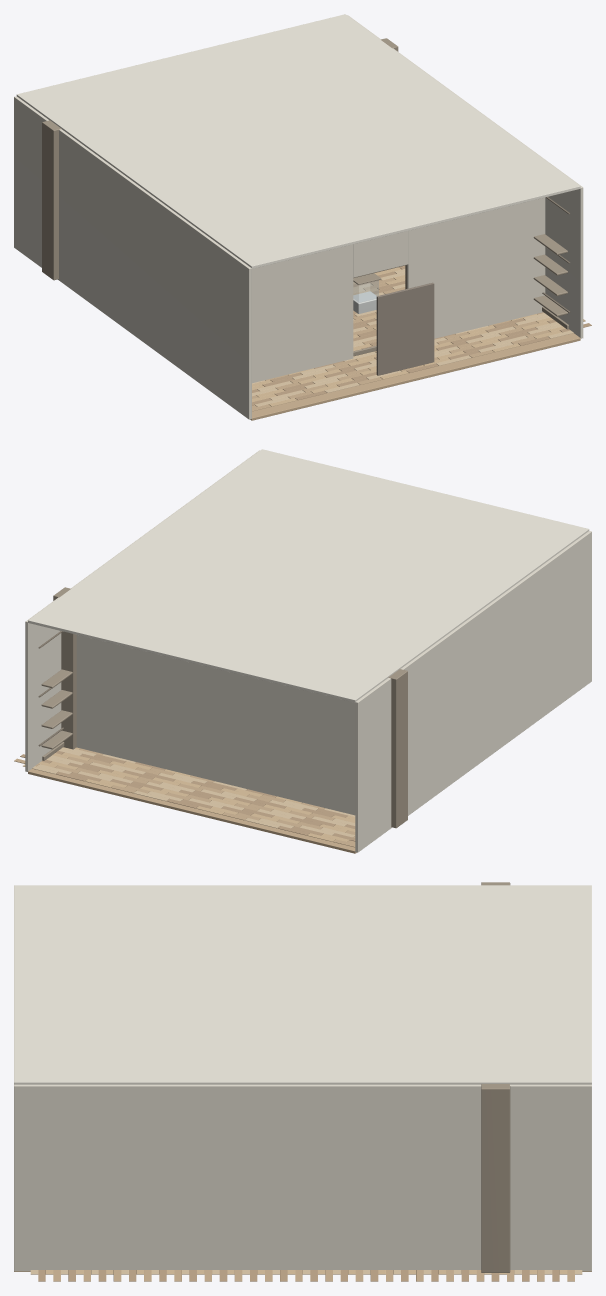
Rendered from whitebox-room.glb.
The picture shows the model from 3 angles, top to bottom: view 1: azimuth 30°, elevation 25°; view 2: azimuth 150°, elevation 25°; view 3: azimuth 270°, elevation 25°; orthographic projection. The views are drawn at different scales.
Parts seen in each view (by area): view 1: ceiling, left_wall, front_wall_right, front_wall_left, vestibule_wall, right_wall, floor_slab, back_corner_post_-10.36, front_wall_top; view 2: ceiling, left_wall, back_wall, right_wall, back_corner_post_-10.36, floor_slab, back_corner_post_10.36; view 3: ceiling, right_wall, back_corner_post_10.36.
Boxes of the visible parts, bbox=[...] form: ceiling: bbox=[16, 14, 580, 268]; left_wall: bbox=[14, 96, 251, 419]; front_wall_right: bbox=[407, 197, 545, 338]; front_wall_left: bbox=[252, 244, 353, 383]; vestibule_wall: bbox=[376, 282, 434, 375]; right_wall: bbox=[347, 15, 583, 338]; floor_slab: bbox=[250, 333, 580, 420]; back_corner_post_-10.36: bbox=[42, 120, 61, 280]; front_wall_top: bbox=[353, 231, 408, 277]; ceiling: bbox=[28, 449, 589, 702]; left_wall: bbox=[355, 531, 591, 852]; back_wall: bbox=[76, 635, 355, 815]; right_wall: bbox=[25, 450, 259, 771]; back_corner_post_-10.36: bbox=[388, 669, 407, 828]; floor_slab: bbox=[28, 768, 356, 853]; back_corner_post_10.36: bbox=[53, 587, 76, 749]; ceiling: bbox=[14, 885, 591, 1084]; right_wall: bbox=[14, 1084, 591, 1271]; back_corner_post_10.36: bbox=[481, 1084, 510, 1272].
Bounding box in the file's own units: 22.86 × 9.42 × 26.
